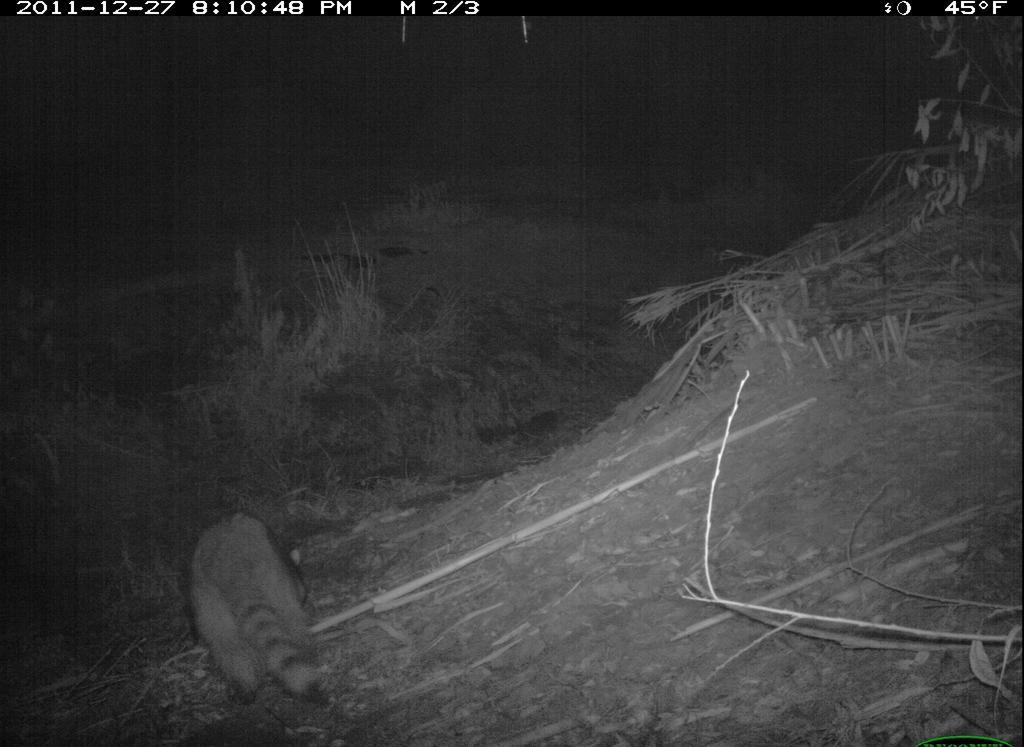raccoon: (182, 502, 346, 717)
